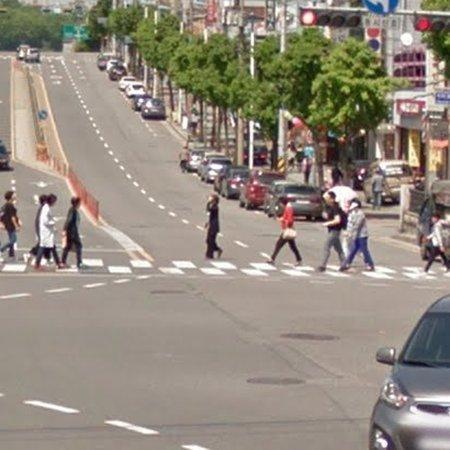crosswalks: (0, 260, 449, 280)
